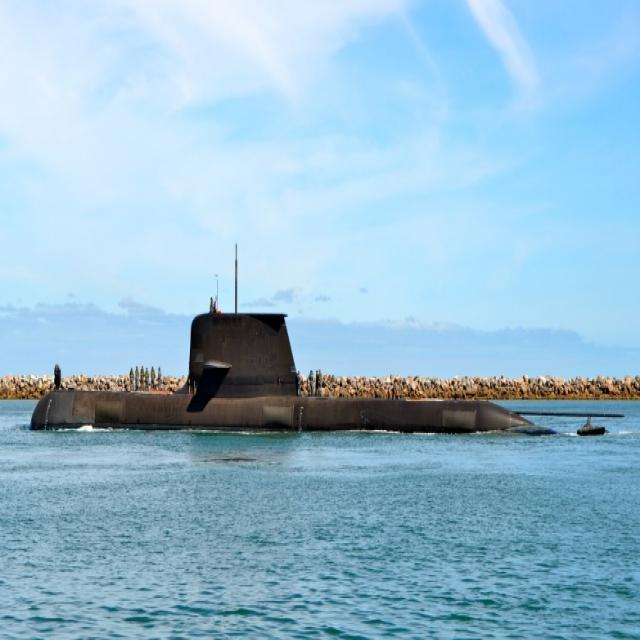submarine: (30, 250, 552, 437)
